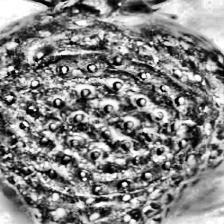Anthracnose Fruit Rot: (0, 40, 218, 201)
